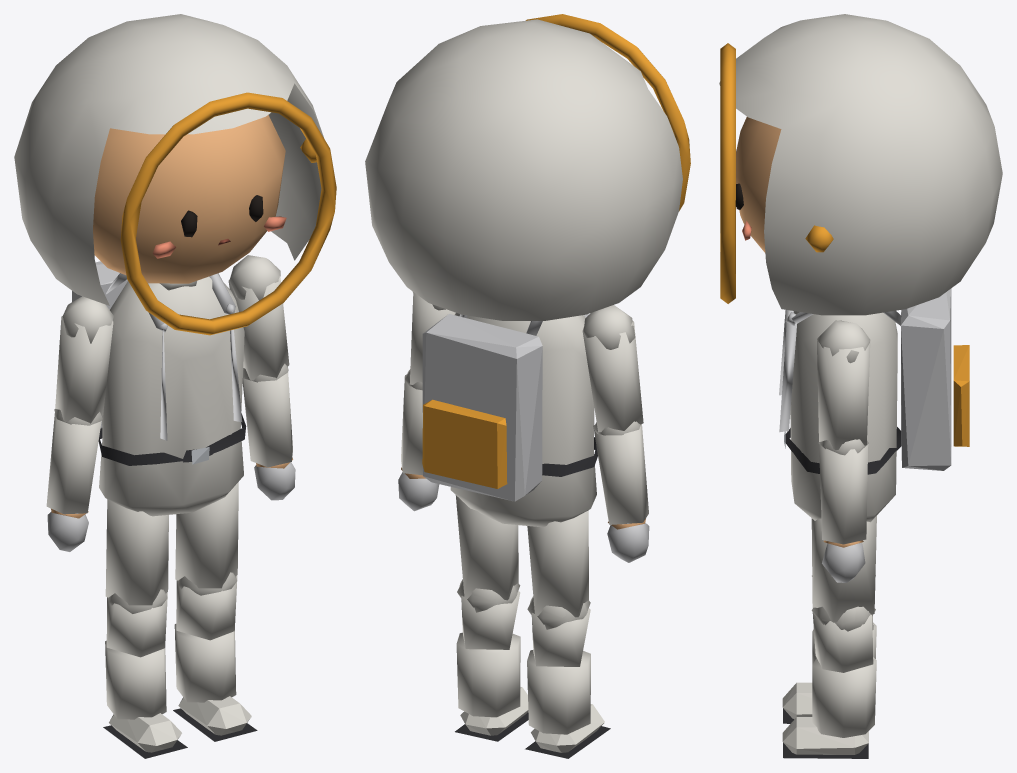
Rendered from era5_astronaut.glb.
3 views of the same model, side by side, from view 1: azimuth 30°, elevation 25°; view 2: azimuth 150°, elevation 25°; view 3: azimuth 270°, elevation 25° (orthographic).
Visible parts, largest first — view 1: head, body, shin_L, shin_R, arm_R, leg_R, forearm_R, leg_L, forearm_L, arm_L; view 2: head, body, shin_R, shin_L, arm_R, leg_R, forearm_R, leg_L, forearm_L, arm_L; view 3: head, body, shin_L, arm_L, forearm_L, leg_L, shin_R.
Boxes of the visible parts, bbox=[...] form: head: bbox=[14, 14, 336, 335]; body: bbox=[72, 261, 246, 516]; shin_L: bbox=[173, 576, 257, 741]; shin_R: bbox=[103, 593, 187, 758]; arm_R: bbox=[54, 296, 113, 425]; leg_R: bbox=[105, 499, 168, 613]; forearm_R: bbox=[46, 412, 101, 551]; leg_L: bbox=[175, 481, 238, 595]; forearm_L: bbox=[242, 371, 295, 500]; arm_L: bbox=[228, 255, 289, 382]; head: bbox=[365, 14, 690, 320]; body: bbox=[422, 313, 597, 527]; shin_R: bbox=[525, 596, 610, 758]; shin_L: bbox=[455, 579, 528, 741]; arm_R: bbox=[582, 305, 643, 435]; leg_R: bbox=[527, 510, 590, 624]; forearm_R: bbox=[593, 421, 649, 562]; leg_L: bbox=[455, 495, 520, 607]; forearm_L: bbox=[398, 369, 439, 511]; arm_L: bbox=[405, 291, 455, 390]; head: bbox=[719, 14, 1002, 315]; body: bbox=[779, 288, 969, 522]; shin_L: bbox=[782, 606, 876, 758]; arm_L: bbox=[817, 320, 870, 455]; forearm_L: bbox=[819, 439, 868, 582]; leg_L: bbox=[811, 516, 876, 629]; shin_R: bbox=[782, 575, 876, 723].
Bounding box in the file's own units: 0.639 × 1.53 × 0.5581.
